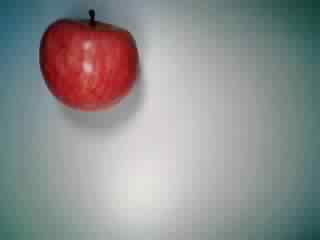apple: (38, 7, 141, 114)
